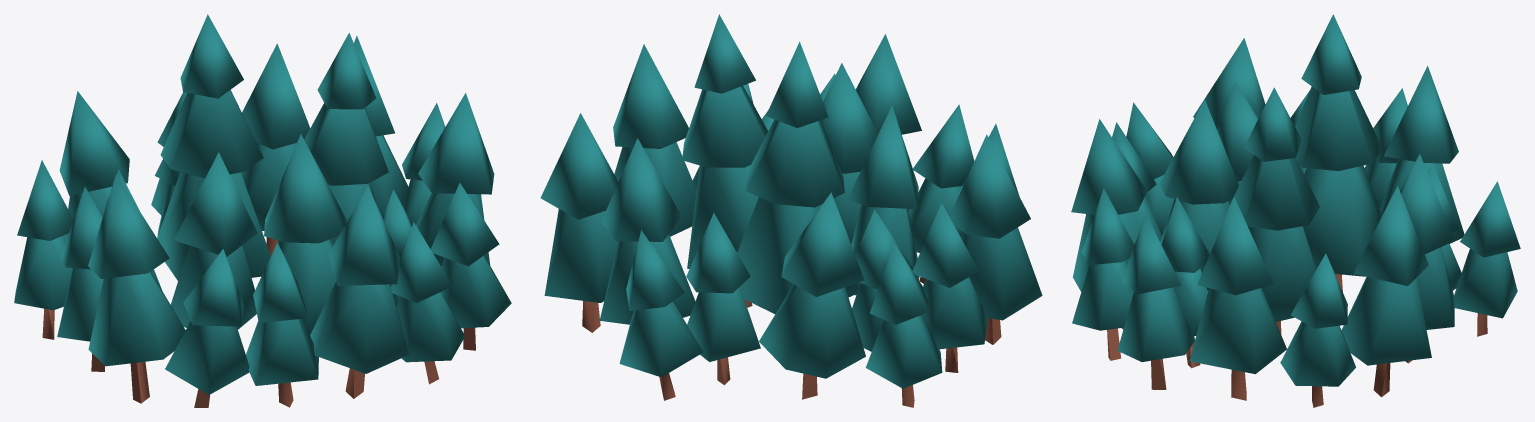
Rendered from forest_Lod2.fbx.
The picture shows the model from 3 angles, left to right: view 1: azimuth 30°, elevation 25°; view 2: azimuth 150°, elevation 25°; view 3: azimuth 270°, elevation 25°; orthographic projection. The views are drawn at different scales.
Visible parts, largest first — view 1: forest.001; view 2: forest.001; view 3: forest.001.
Boxes of the visible parts, left/top/right/bottom form: forest.001: left=14, top=14, right=511, bottom=407; forest.001: left=540, top=14, right=1042, bottom=407; forest.001: left=1071, top=14, right=1520, bottom=407.
Bounding box in the file's own units: 191 × 137 × 188.
